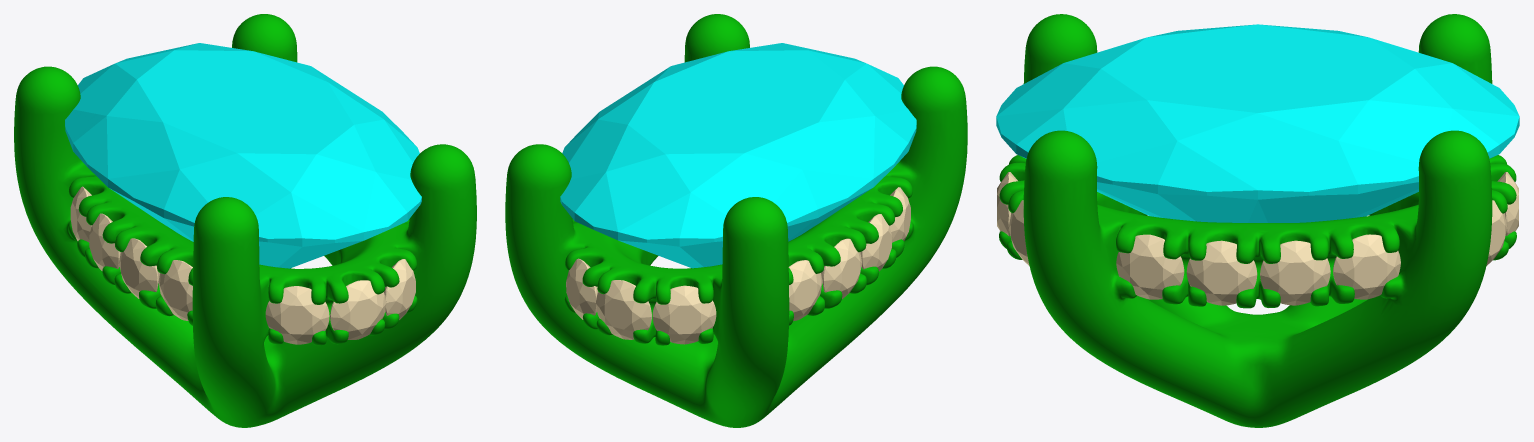
3 renders of one model, left to right at view 1: azimuth 30°, elevation 25°; view 2: azimuth 150°, elevation 25°; view 3: azimuth 270°, elevation 25°, orthographic. The views are drawn at different scales.
Visible parts, largest first — view 1: Metal01, Diamond_Oval, Diamond_Round.011, Diamond_Round.012, Diamond_Round.003, Diamond_Round.002, Diamond_Round.013, Diamond_Round.001, Diamond_Round; view 2: Metal01, Diamond_Oval, Diamond_Round.008, Diamond_Round.009, Diamond_Round.001, Diamond_Round, Diamond_Round.010, Diamond_Round.002, Diamond_Round.003; view 3: Metal01, Diamond_Oval, Diamond_Round.005, Diamond_Round.006, Diamond_Round.004, Diamond_Round.007, Diamond_Round.010, Diamond_Round.013, Diamond_Round.009, Diamond_Round.012.
Part boxes in pixels (bbox=[...]): Metal01: bbox=[14, 14, 476, 427]; Diamond_Oval: bbox=[65, 43, 421, 268]; Diamond_Round.011: bbox=[265, 286, 329, 344]; Diamond_Round.012: bbox=[330, 280, 386, 339]; Diamond_Round.003: bbox=[158, 260, 192, 320]; Diamond_Round.002: bbox=[119, 238, 159, 298]; Diamond_Round.013: bbox=[384, 259, 415, 319]; Diamond_Round.001: bbox=[89, 213, 120, 270]; Diamond_Round: bbox=[70, 186, 91, 242]; Metal01: bbox=[505, 14, 967, 427]; Diamond_Oval: bbox=[560, 43, 916, 268]; Diamond_Round.008: bbox=[652, 285, 716, 344]; Diamond_Round.009: bbox=[595, 280, 651, 339]; Diamond_Round.001: bbox=[821, 238, 861, 298]; Diamond_Round: bbox=[788, 260, 822, 320]; Diamond_Round.010: bbox=[566, 258, 598, 319]; Diamond_Round.002: bbox=[860, 214, 892, 271]; Diamond_Round.003: bbox=[889, 187, 910, 242]; Metal01: bbox=[999, 14, 1516, 427]; Diamond_Oval: bbox=[996, 24, 1519, 222]; Diamond_Round.005: bbox=[1186, 240, 1257, 305]; Diamond_Round.006: bbox=[1260, 240, 1330, 305]; Diamond_Round.004: bbox=[1116, 234, 1184, 299]; Diamond_Round.007: bbox=[1333, 234, 1400, 299]; Diamond_Round.010: bbox=[1486, 200, 1506, 265]; Diamond_Round.013: bbox=[1009, 200, 1029, 265]; Diamond_Round.009: bbox=[1497, 172, 1518, 235]; Diamond_Round.012: bbox=[997, 172, 1017, 236].
Bounding box in the file's own units: 4.95 × 5.49 × 7.4.
